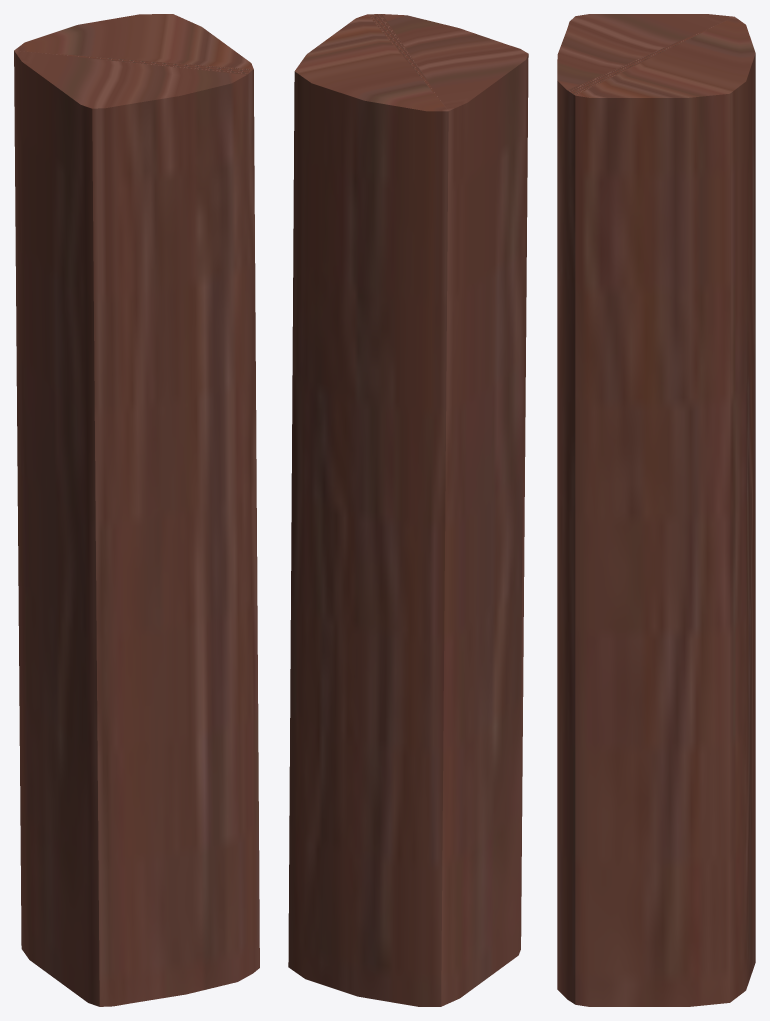
Rendered from wood.fbx.
3 views of the same model, side by side, from view 1: azimuth 30°, elevation 25°; view 2: azimuth 150°, elevation 25°; view 3: azimuth 270°, elevation 25° (orthographic).
Parts seen in each view (by area): view 1: polySurface6397; view 2: polySurface6397; view 3: polySurface6397.
Boxes of the visible parts, x1,y1,x2,y2 form: polySurface6397: (14,14,259,1006); polySurface6397: (288,14,528,1006); polySurface6397: (557,14,755,1006).
Size of the model in its own units: 2.32 by 11.31 by 2.24.
